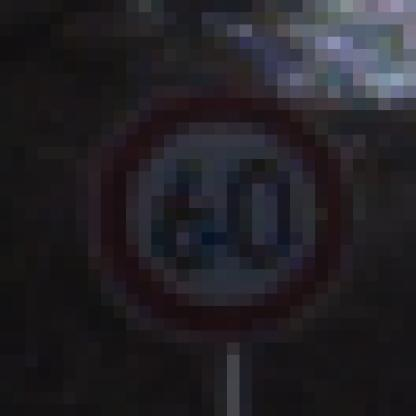Speed Limit 60: (103, 103, 334, 324)
